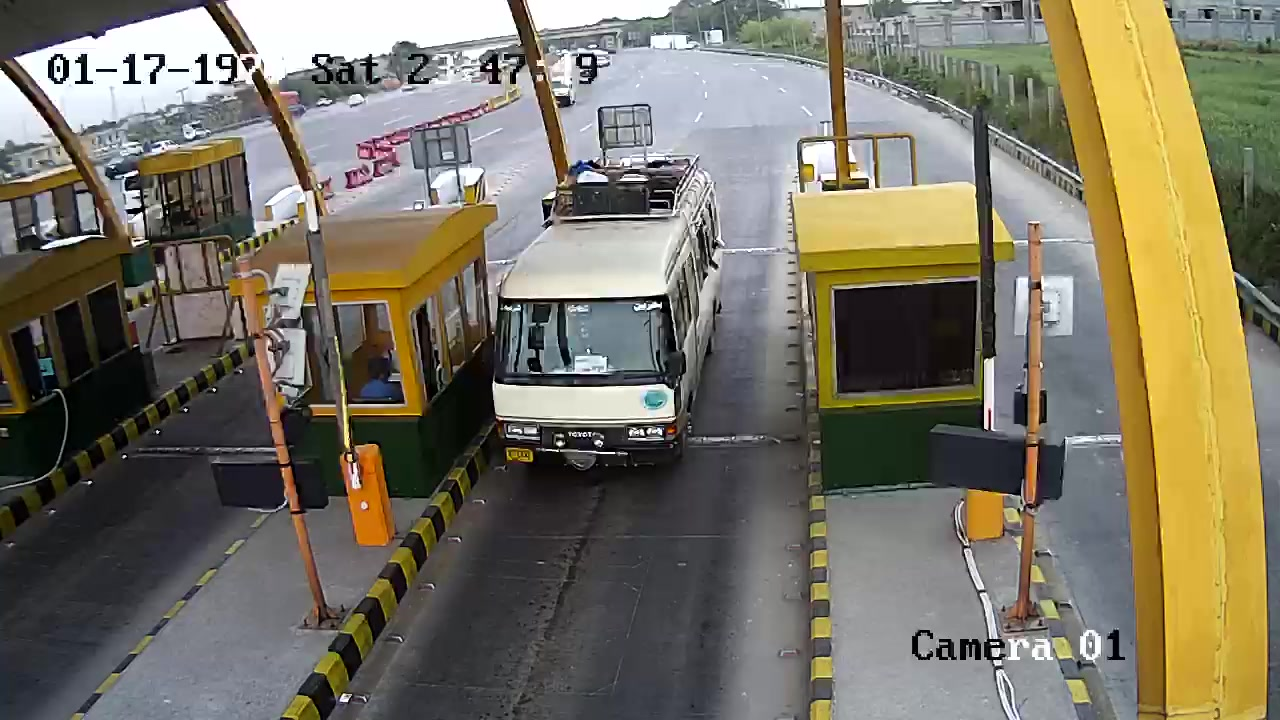F3: (486, 149, 725, 479)
